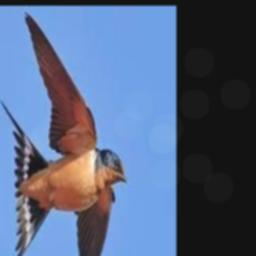Swallow: (1, 11, 130, 256)
